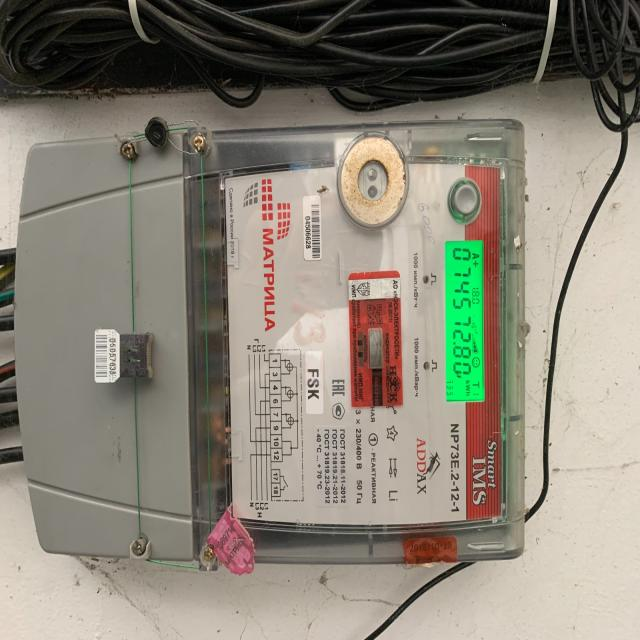Display: (444, 242, 488, 402)
meter_matrica: (117, 126, 528, 560)
meter_number: (300, 192, 325, 263)
seal_elso: (90, 327, 158, 389)
seal_imp: (347, 268, 404, 412)
